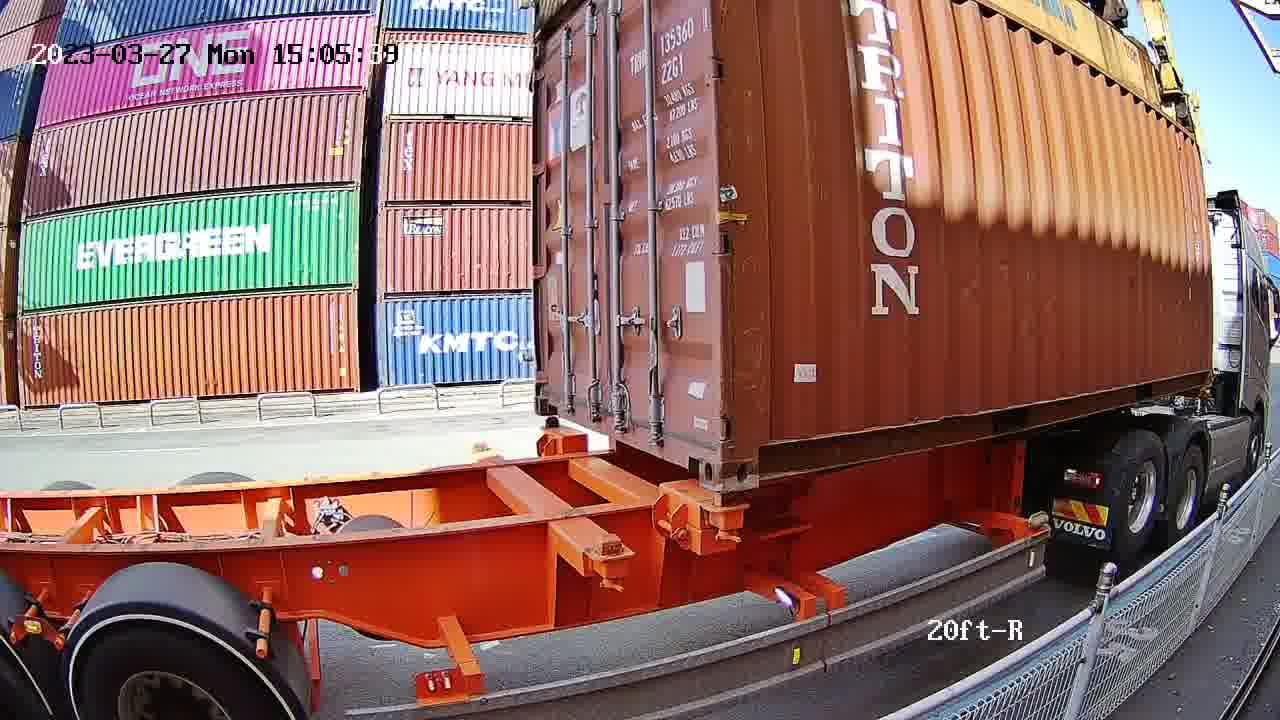Chassis: (542, 426, 744, 530)
Cone: (709, 493, 748, 545)
Hole_L: (720, 414, 787, 491), (534, 371, 567, 423)
Hole_R: (674, 411, 722, 493)
Tire: (1113, 437, 1165, 549), (1165, 446, 1206, 544)
